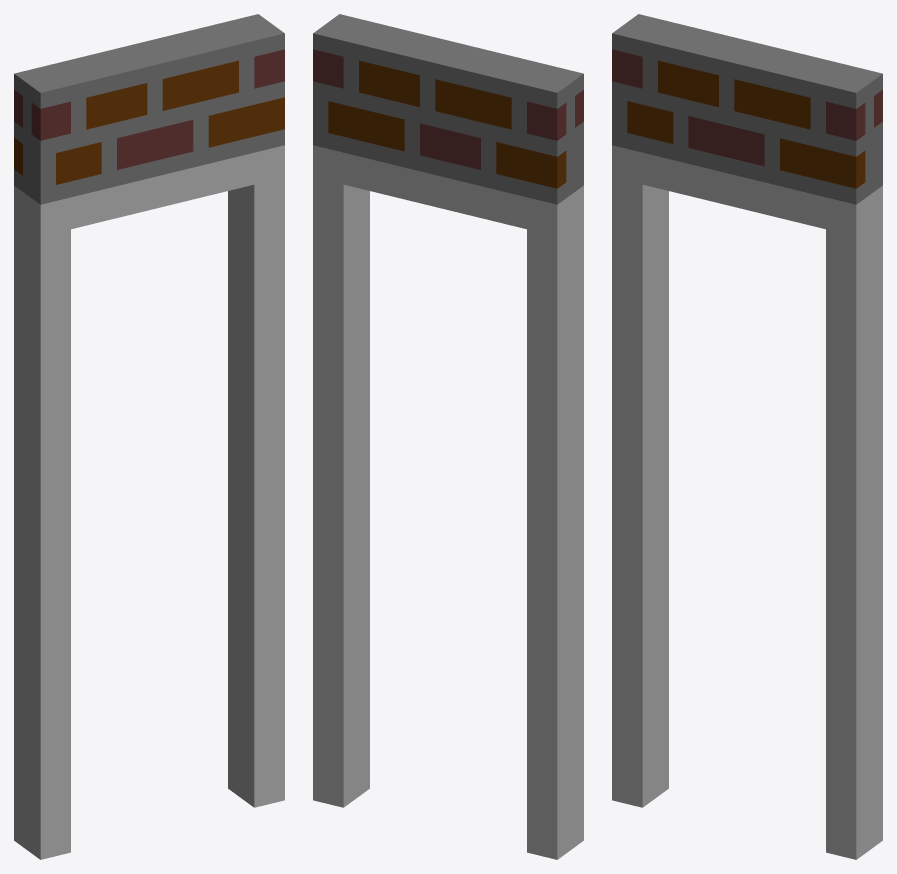
The model's file is WallsSimpleV1DoorBrickFrame.obj.
3 views of the same model, side by side, from view 1: azimuth 30°, elevation 25°; view 2: azimuth 150°, elevation 25°; view 3: azimuth 330°, elevation 25° (orthographic).
Bounding box in the file's own units: 1.6 × 4.8 × 0.3.
Materials: 1 (1 with a texture image).
